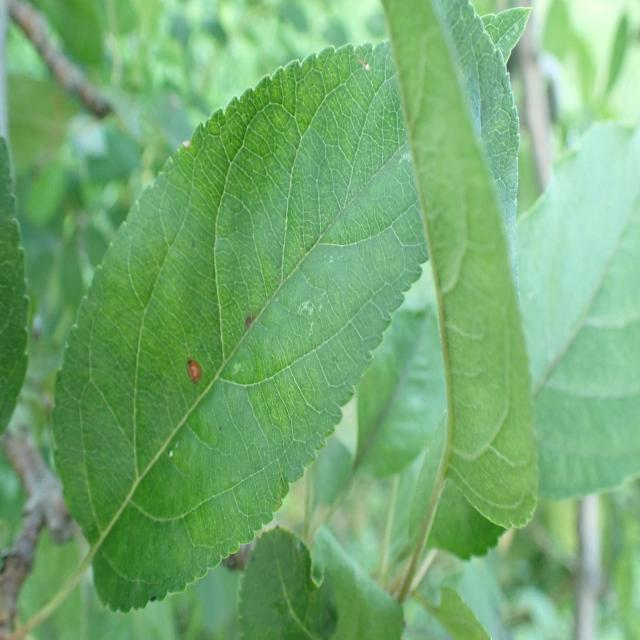Black Rot: (184, 340, 210, 403)
